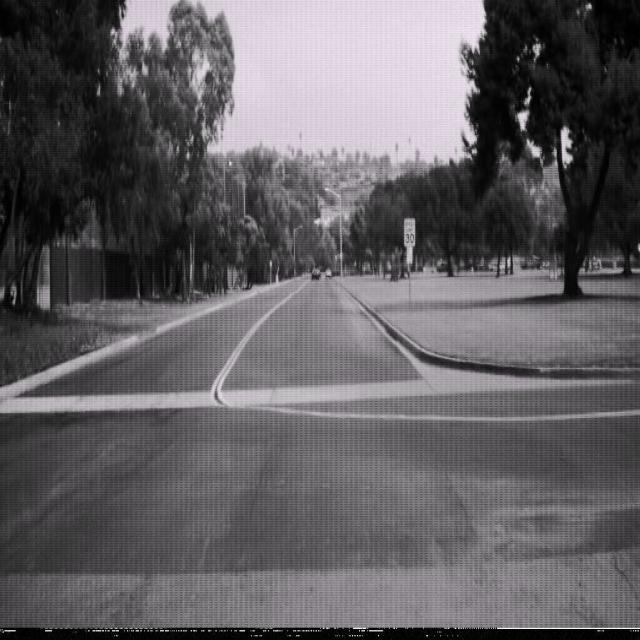speedLimit30: (403, 215, 416, 248)
